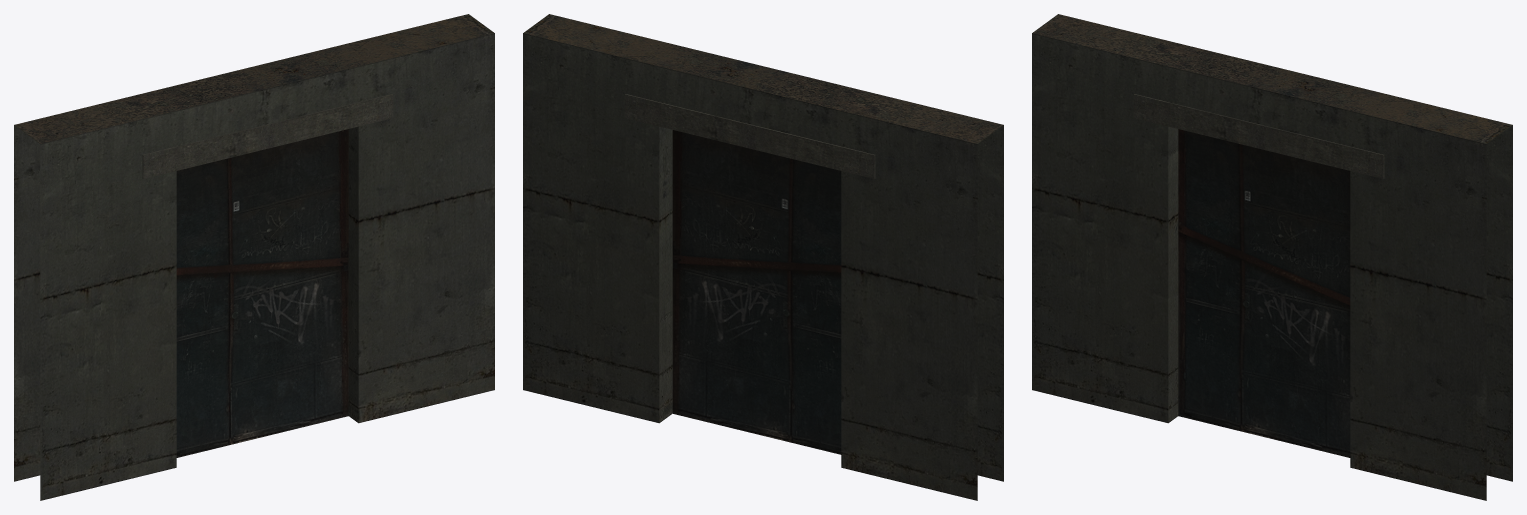
The model's file is doorway_rg_1_wide.dae.
3 renders of one model, left to right at view 1: azimuth 30°, elevation 25°; view 2: azimuth 150°, elevation 25°; view 3: azimuth 330°, elevation 25°, orthographic.
Visible parts, largest first — view 1: doorway_rg_1_wide; view 2: doorway_rg_1_wide; view 3: doorway_rg_1_wide.
Boxes of the visible parts, x1=… form: doorway_rg_1_wide: x1=14, y1=14, x2=494, y2=500; doorway_rg_1_wide: x1=523, y1=14, x2=1003, y2=500; doorway_rg_1_wide: x1=1032, y1=14, x2=1512, y2=500.
Bounding box in the file's own units: 4 × 0.42 × 3.
4 materials, 4 textured.
